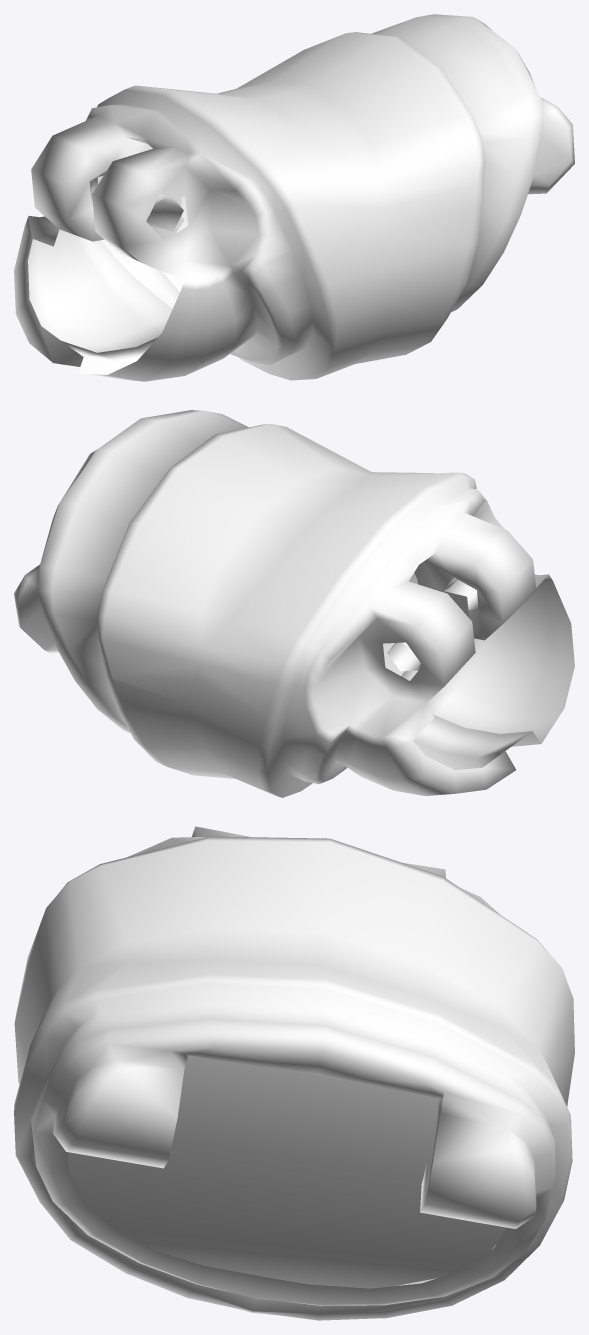
The model's file is LFinger21.dae.
The picture shows the model from 3 angles, top to bottom: view 1: azimuth 30°, elevation 25°; view 2: azimuth 150°, elevation 25°; view 3: azimuth 270°, elevation 25°; orthographic projection. The views are drawn at different scales.
Parts seen in each view (by area): view 1: LFinger21; view 2: LFinger21; view 3: LFinger21.
Boxes of the visible parts, x1,y1,x2,y2 form: LFinger21: [14, 14, 574, 381]; LFinger21: [14, 410, 574, 797]; LFinger21: [14, 826, 574, 1320].
Bounding box in the file's own units: 0.1938 × 0.1588 × 0.1204.
Materials: 1 (1 with a texture image).
